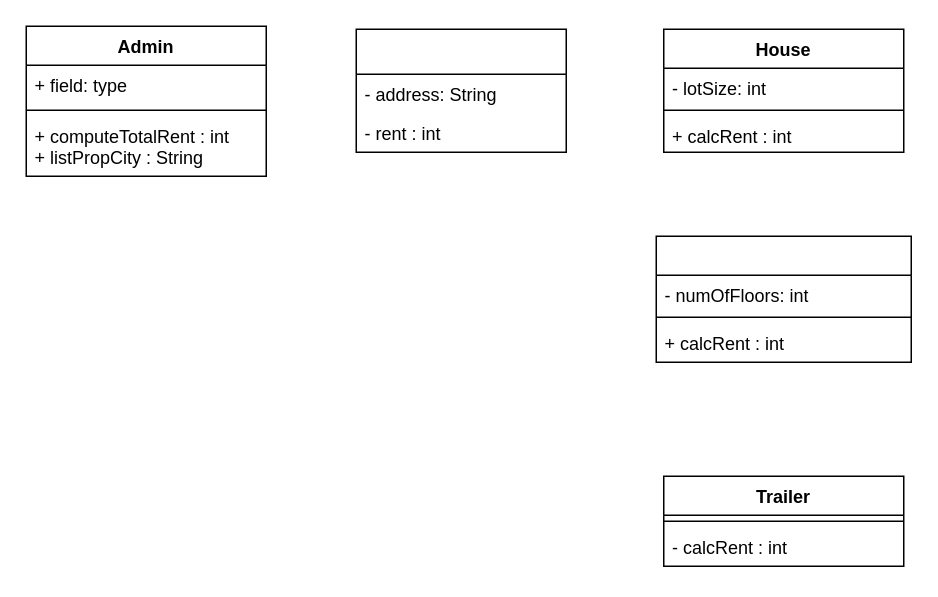
The diagram is 938 pixels wide and 597 high, and some of its shapes have lost their labels. The shapes that lost their labels are listed below. From the top down, each one's box as (x1, y1, x2, y2) in pixels, then its label:
(355, 28, 566, 152): <<interface>> Property
(655, 235, 911, 362): Condominium
